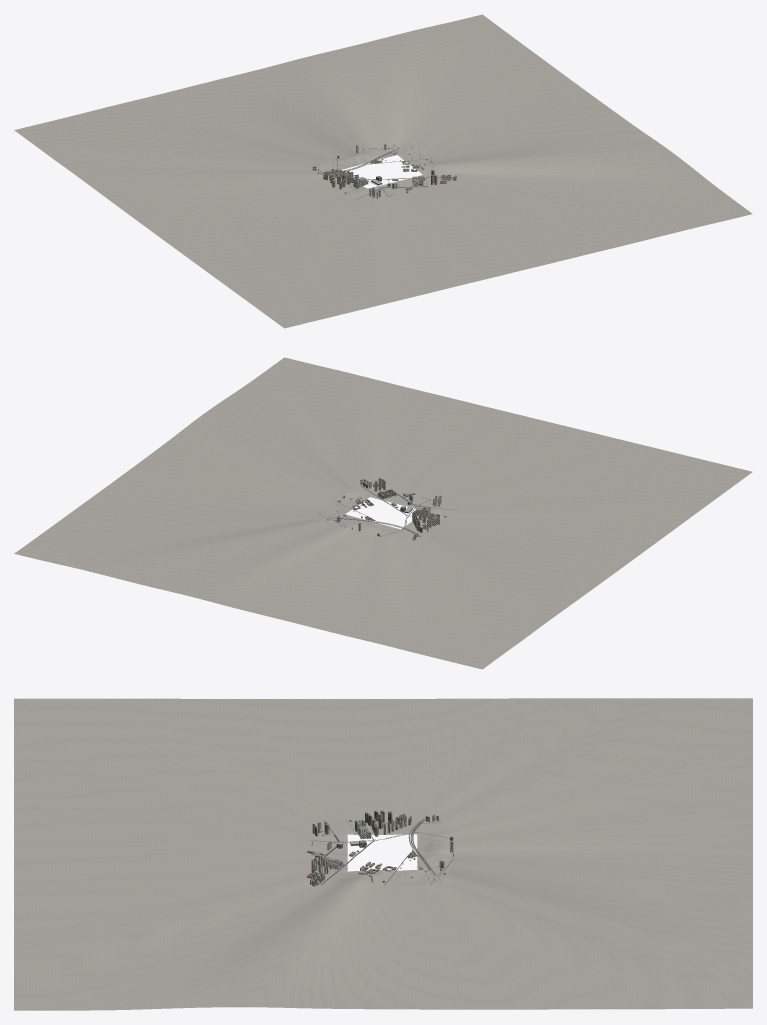
The picture shows the model from 3 angles, top to bottom: view 1: azimuth 30°, elevation 25°; view 2: azimuth 150°, elevation 25°; view 3: azimuth 270°, elevation 25°; orthographic projection. The views are drawn at different scales.
Parts seen in each view (by area): view 1: ctx-ground, ctx-buildings; view 2: ctx-ground, ctx-buildings; view 3: ctx-ground, ctx-buildings, ctx-roads.
Part boxes in pixels (x1,y1,x2,y2): ctx-ground: (14,14,752,328); ctx-buildings: (312,143,456,198); ctx-ground: (14,357,752,669); ctx-buildings: (327,477,446,540); ctx-ground: (14,698,752,1010); ctx-buildings: (307,810,453,886); ctx-roads: (311,819,453,885).
Bounding box in the file's own units: 7600 × 195 × 7600.
18 materials, 15 textured.
